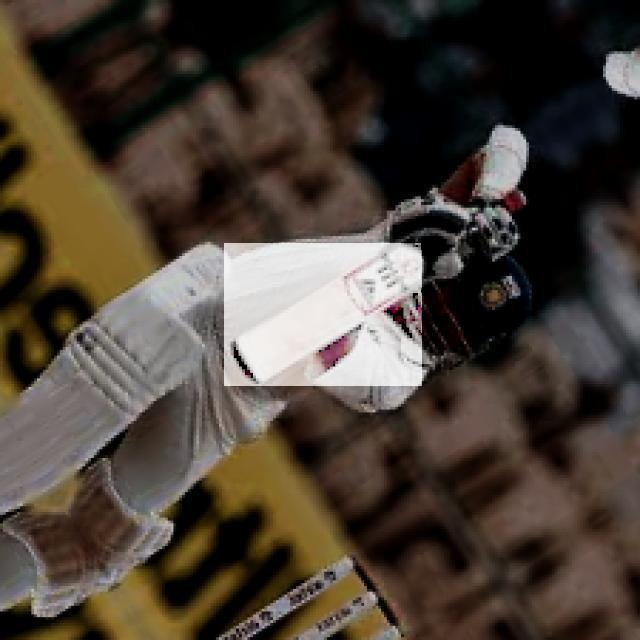bat: (224, 244, 424, 387)
toe: (229, 343, 260, 382)
